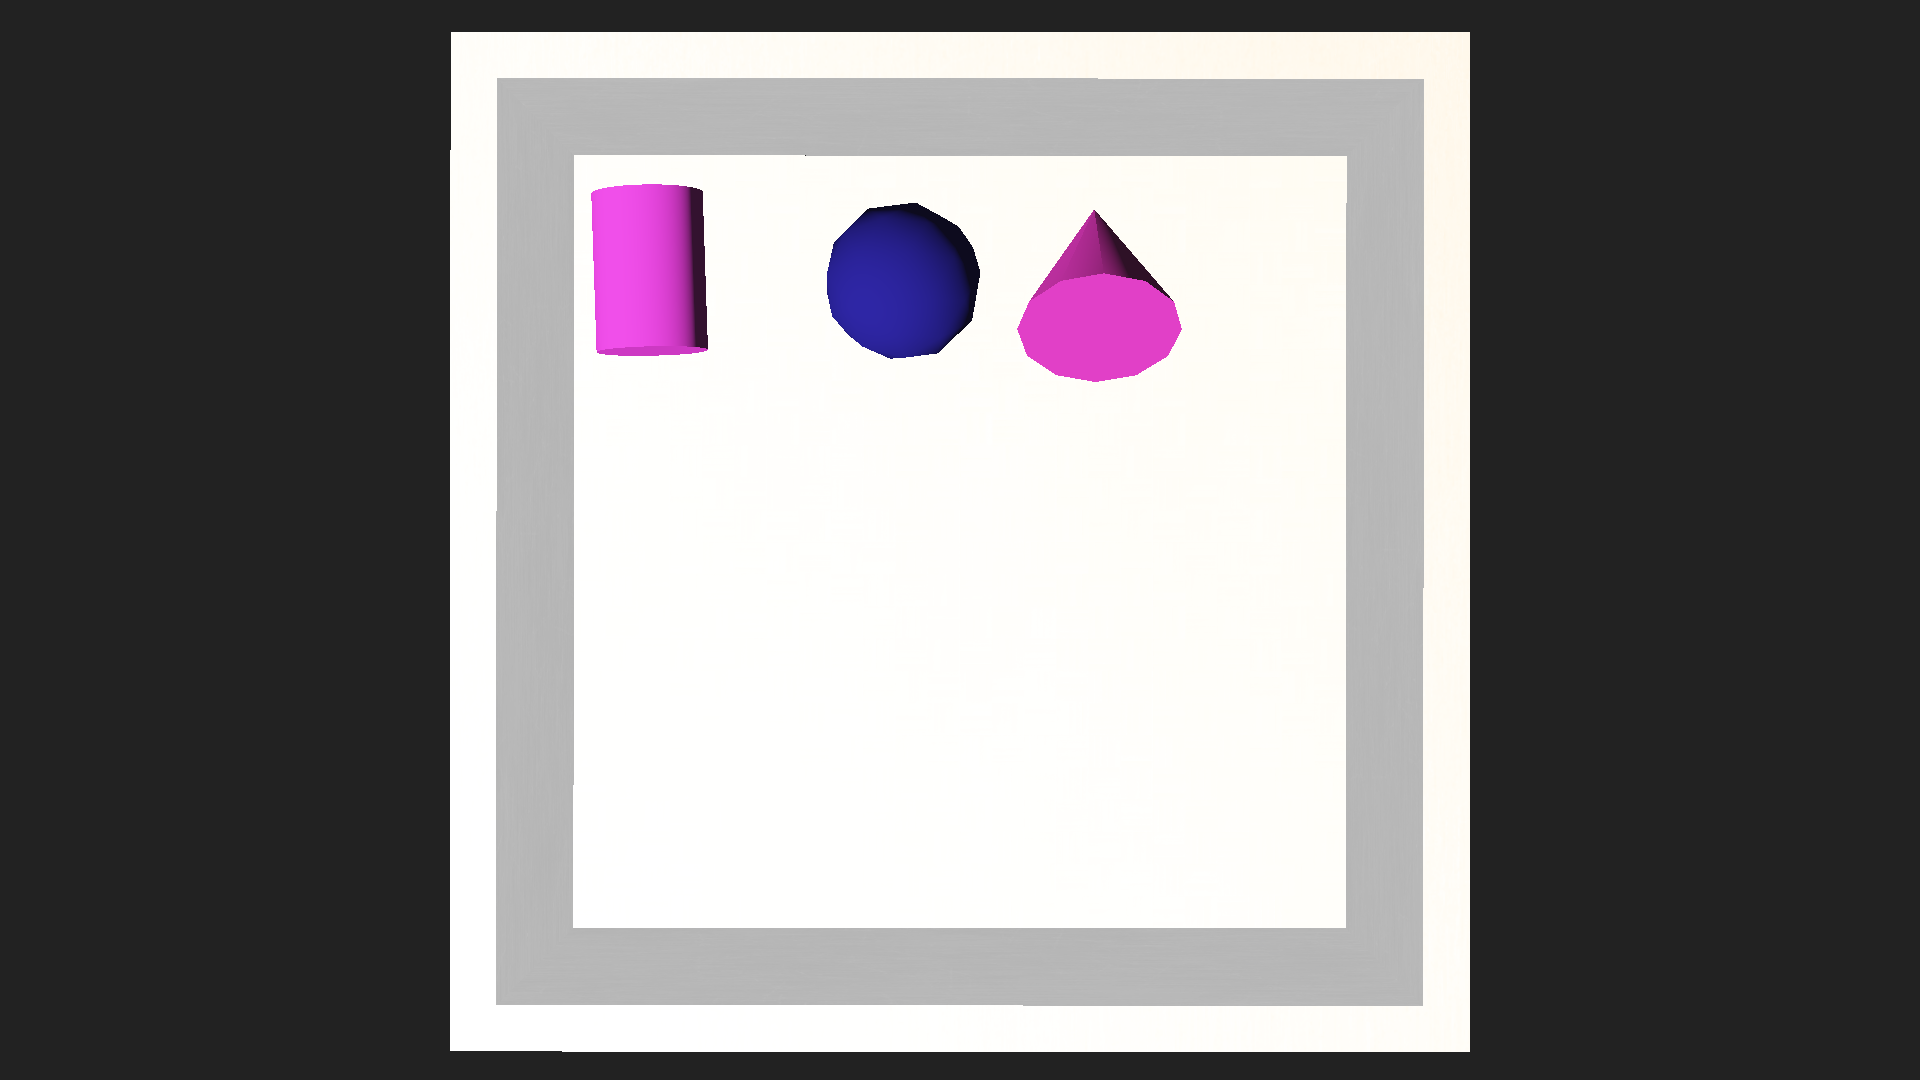cone: (583, 182, 713, 357)
cylinder: (1021, 141, 1179, 382)
sphere: (822, 202, 982, 360)
